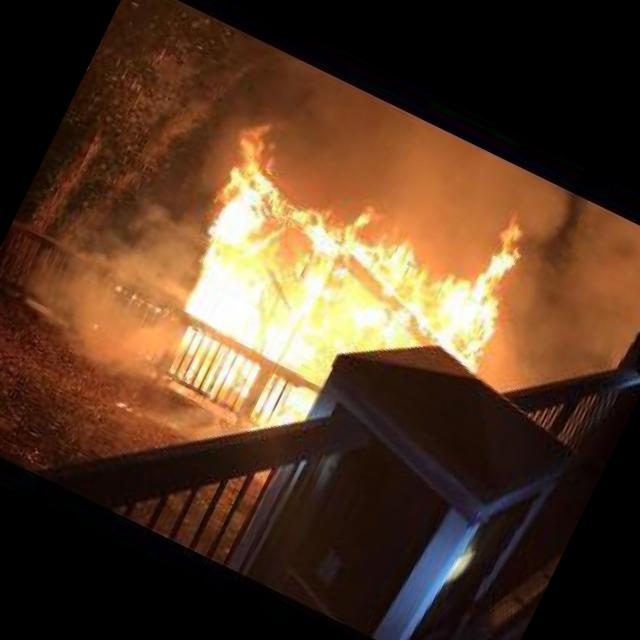fire: (122, 86, 548, 491)
smoke: (4, 155, 232, 387)
